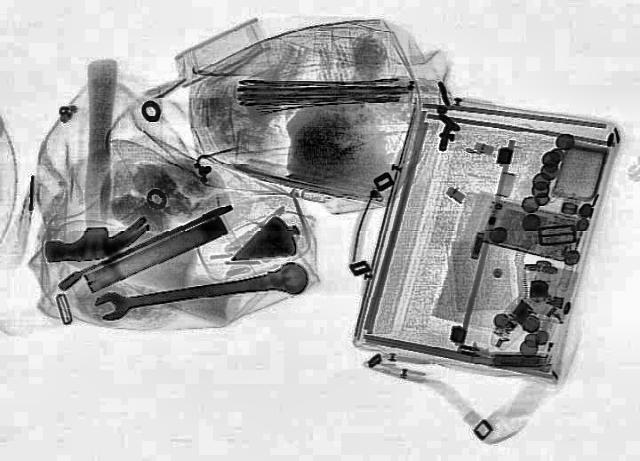Wrench: (90, 259, 312, 323)
